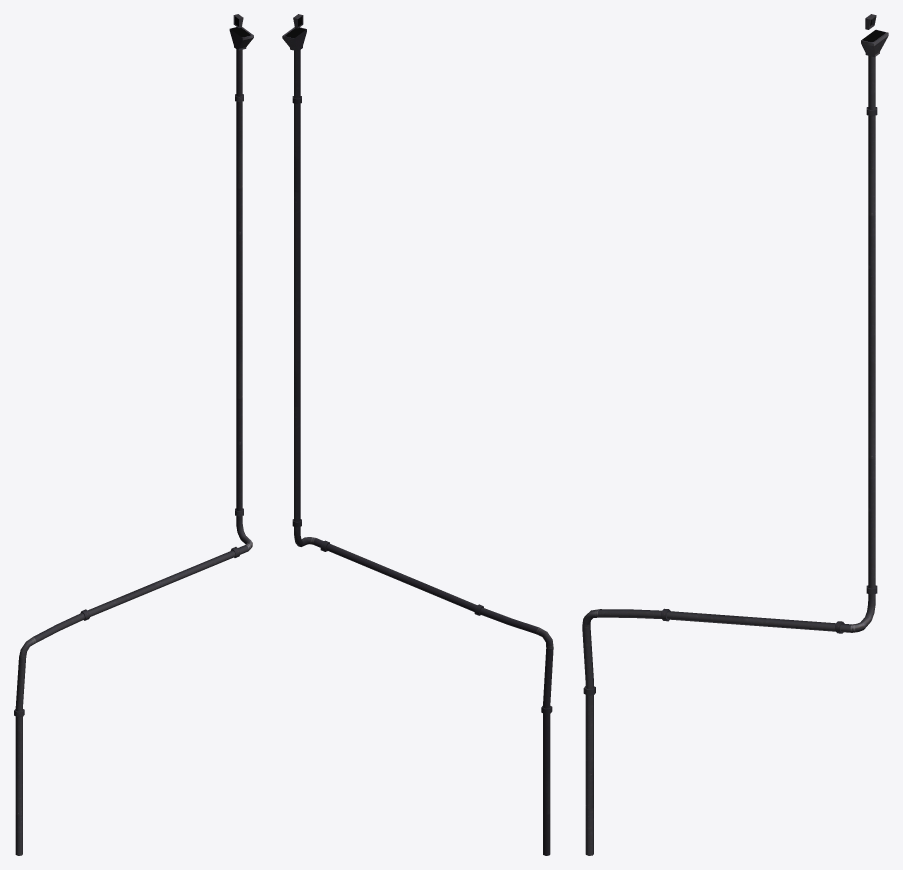
File: gutter_downspout_corner01.glb
3 renders of one model, left to right at view 1: azimuth 30°, elevation 25°; view 2: azimuth 150°, elevation 25°; view 3: azimuth 330°, elevation 25°, orthographic. The views are drawn at different scales.
Parts seen in each view (by area): view 1: gutter_downspout_corner01; view 2: gutter_downspout_corner01; view 3: gutter_downspout_corner01.
Part boxes in pixels (left/top/right/bottom): gutter_downspout_corner01: left=14, top=14, right=253, bottom=855; gutter_downspout_corner01: left=282, top=14, right=553, bottom=855; gutter_downspout_corner01: left=582, top=14, right=888, bottom=855.
Bounding box in the file's own units: 2.97 × 8.96 × 0.5015.
1 material, 1 textured.
